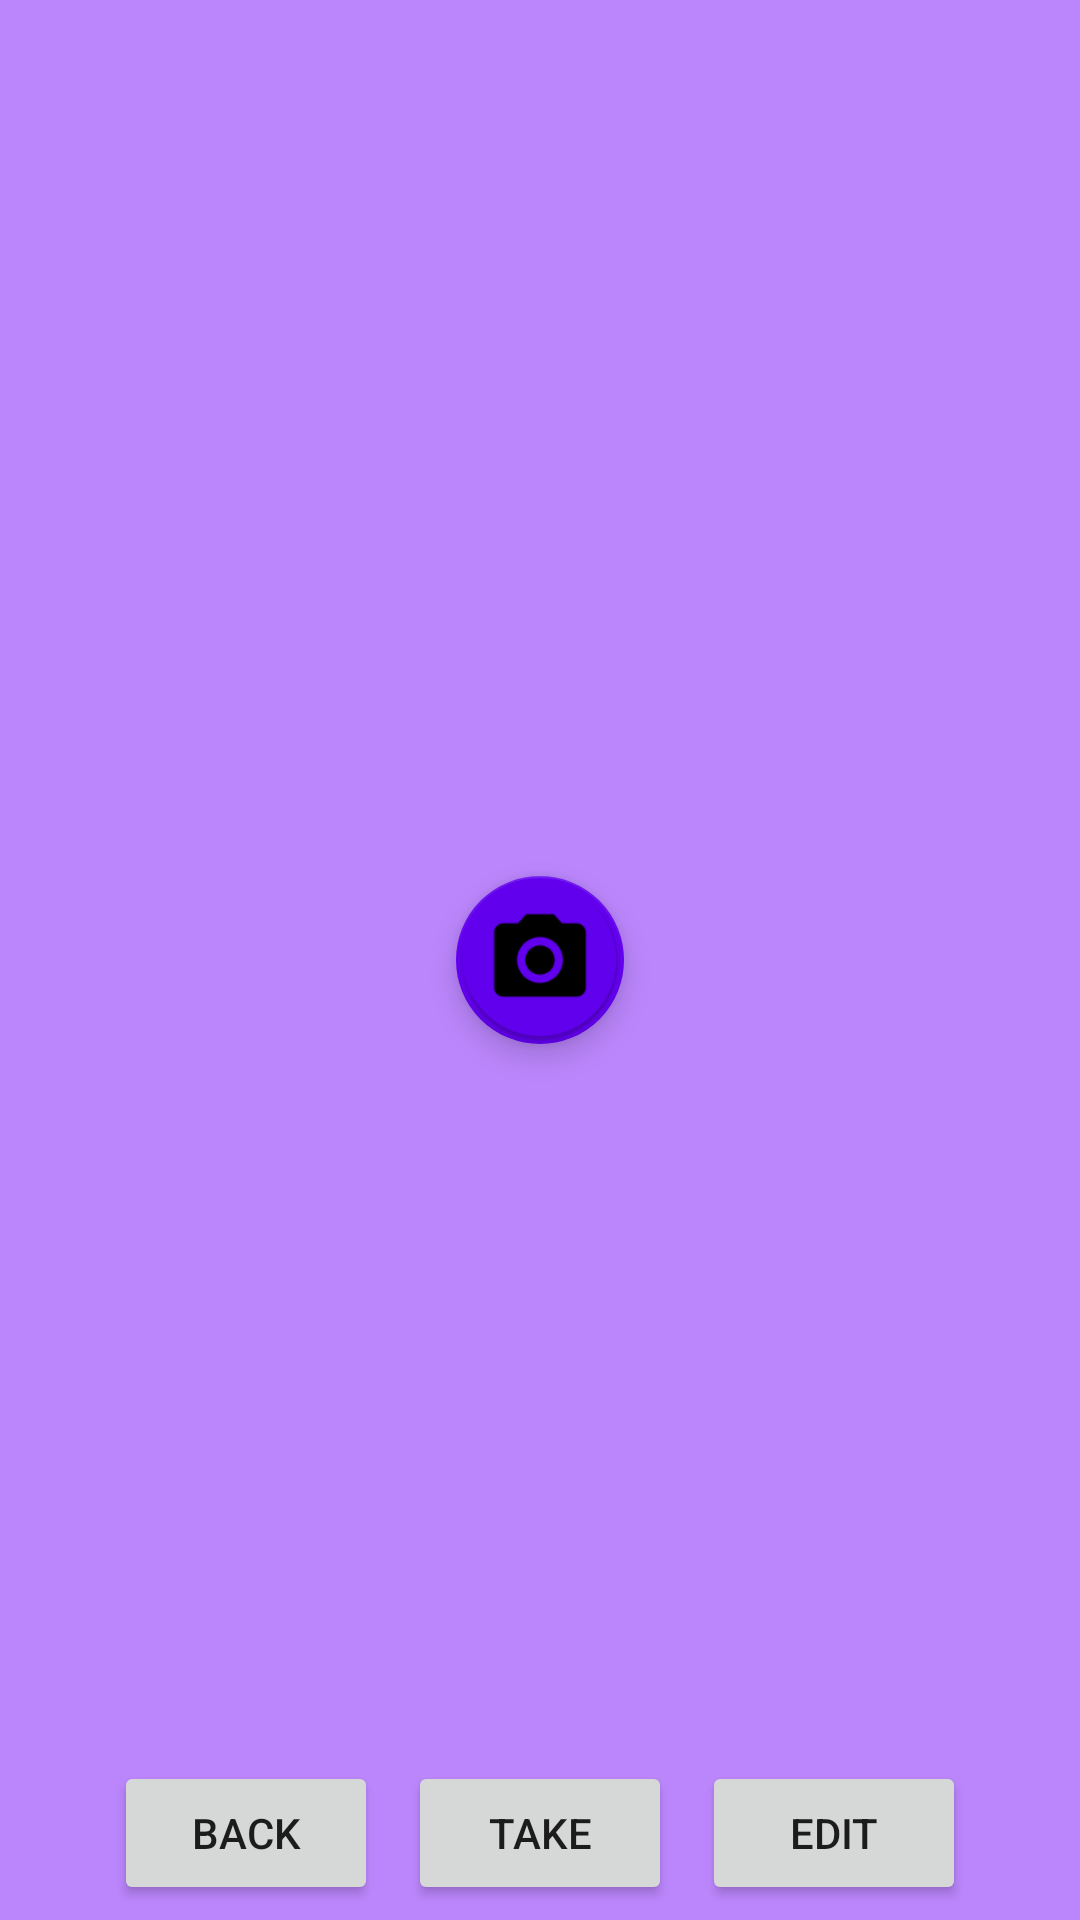

Where to tap for icons on this 1080×1920 app screen, as (x=x, y=y):
camera view content: (x=540, y=960)
